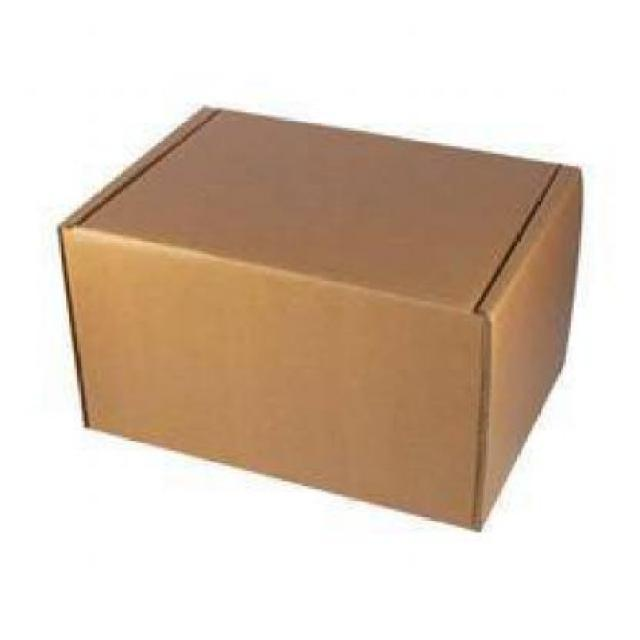box: (48, 103, 576, 533)
